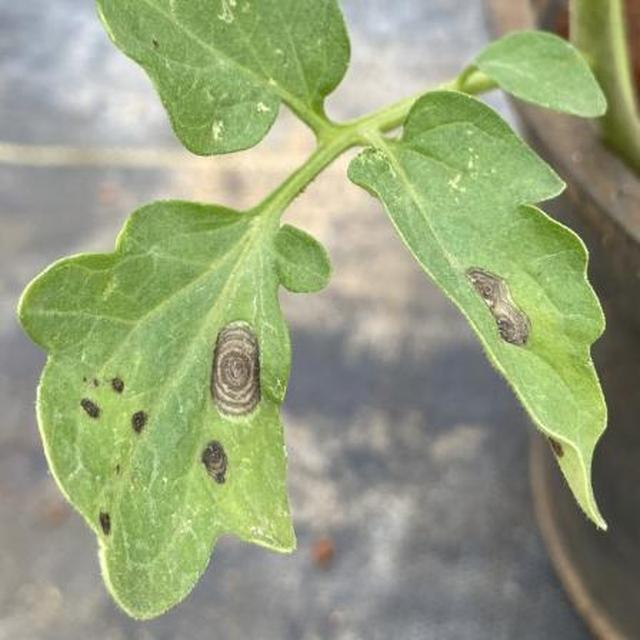Early Blight Leaf: (249, 443, 640, 628)
